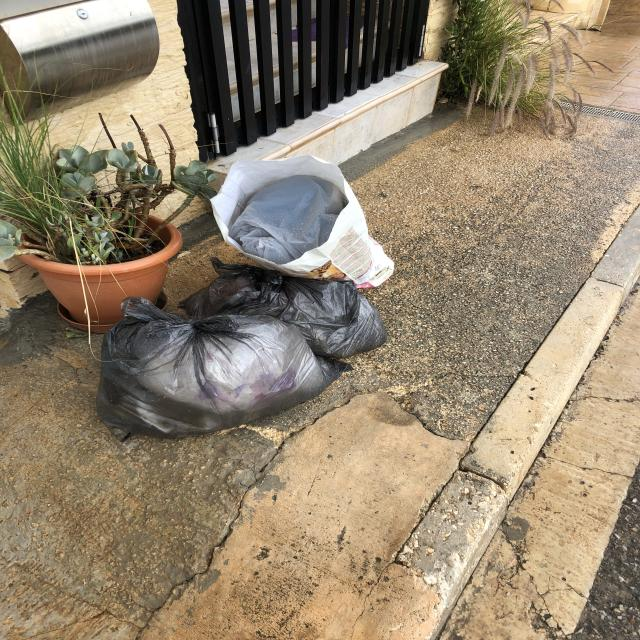Mixed Waste -Black Bag-: (99, 300, 348, 442), (186, 260, 387, 362)
Other: (212, 158, 397, 288)
